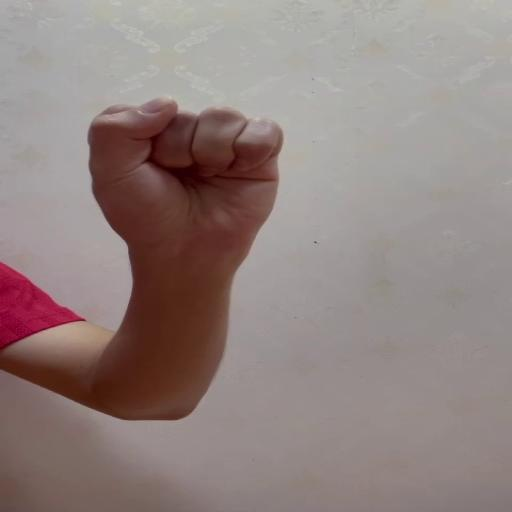fist: (85, 91, 286, 246)
